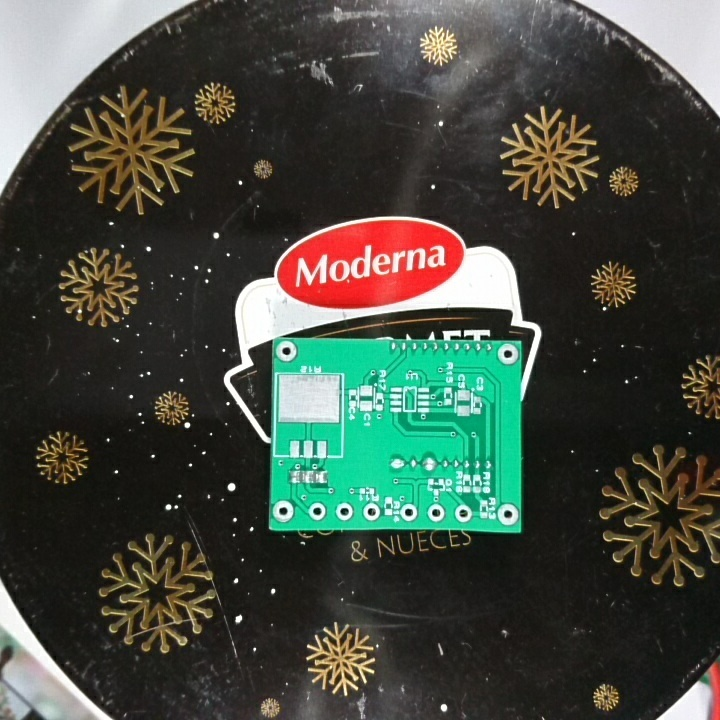F: (271, 499, 297, 527), (496, 501, 519, 528), (274, 339, 299, 363), (496, 342, 519, 367), (360, 500, 383, 524), (305, 500, 329, 522), (425, 503, 448, 525), (398, 502, 420, 524), (333, 500, 355, 522), (453, 503, 475, 524)
P: (386, 454, 407, 472), (419, 455, 439, 473)
